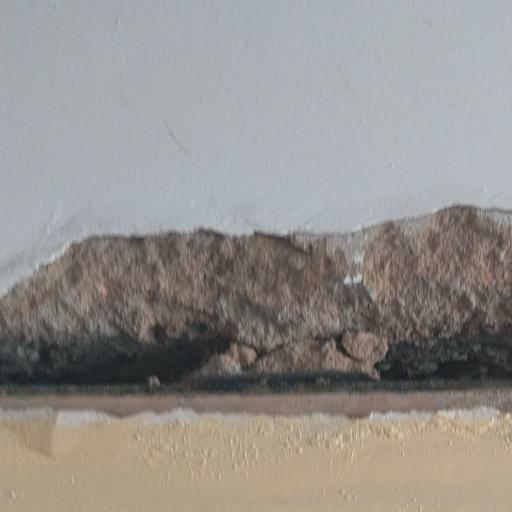spalling: (0, 201, 512, 424)
